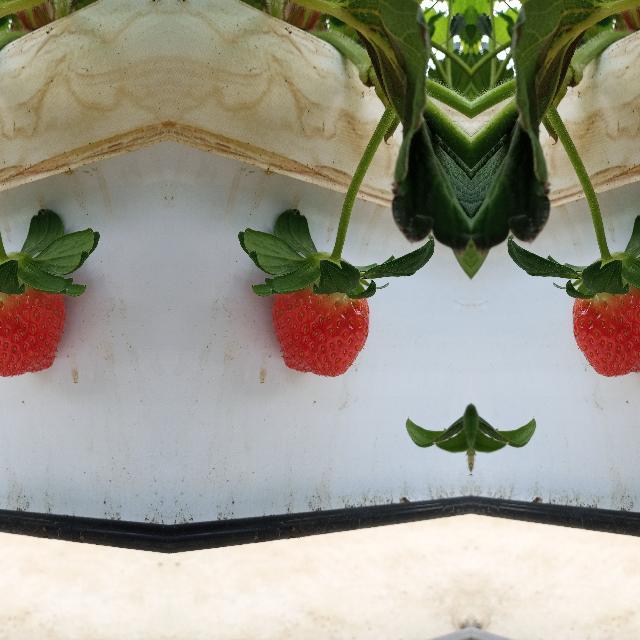Health_100: (270, 282, 370, 378), (571, 282, 640, 378), (0, 282, 65, 378)
